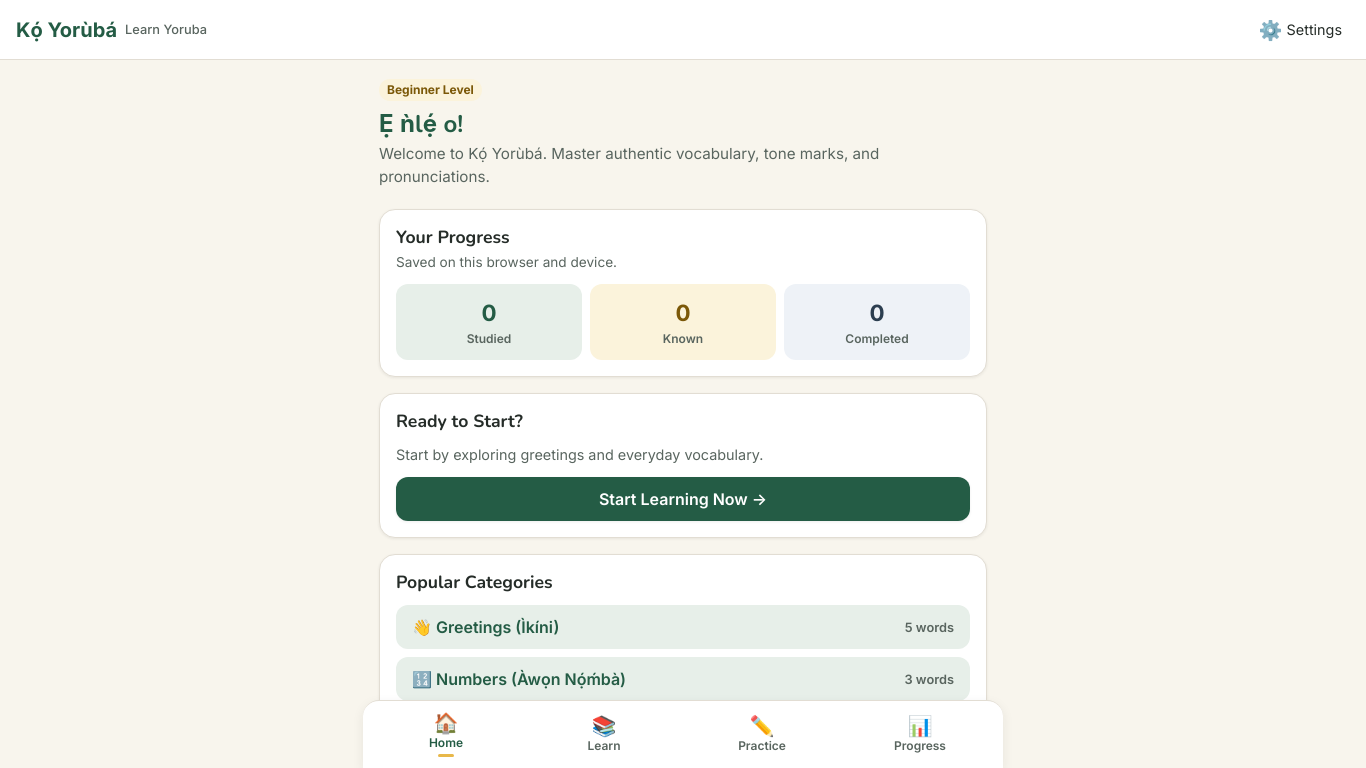
Test: App Shell & Navigation › navigates to Settings when Settings button in header is clicked
Step 1. Click the button with aria-label "Settings and Preferences" → [1300, 30], box 1251,8 -> 1350,52
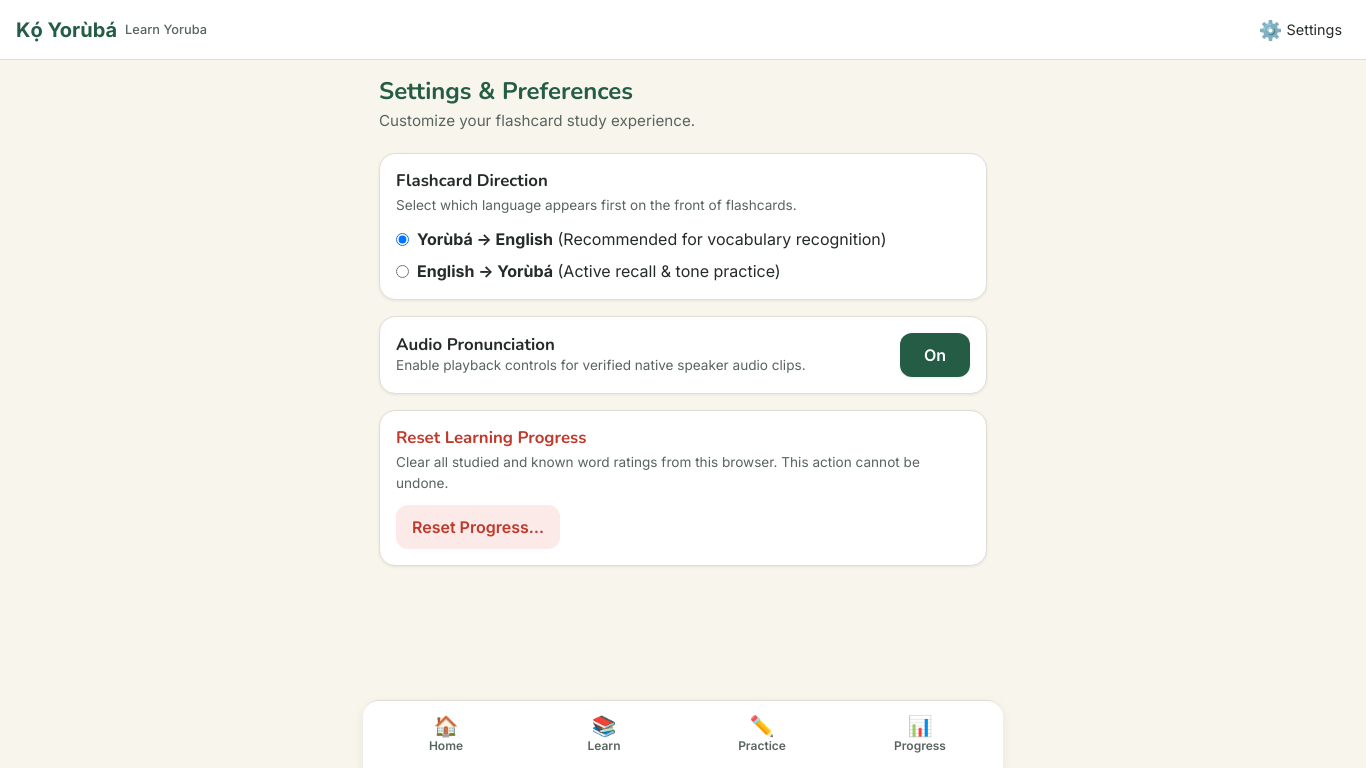
Now the heading "Settings & Preferences" is shown, box 379,75 -> 633,107
Now the heading "Flashcard Direction" is shown, box 396,169 -> 548,192
Now the heading "Audio Pronunciation" is shown, box 396,334 -> 555,356
